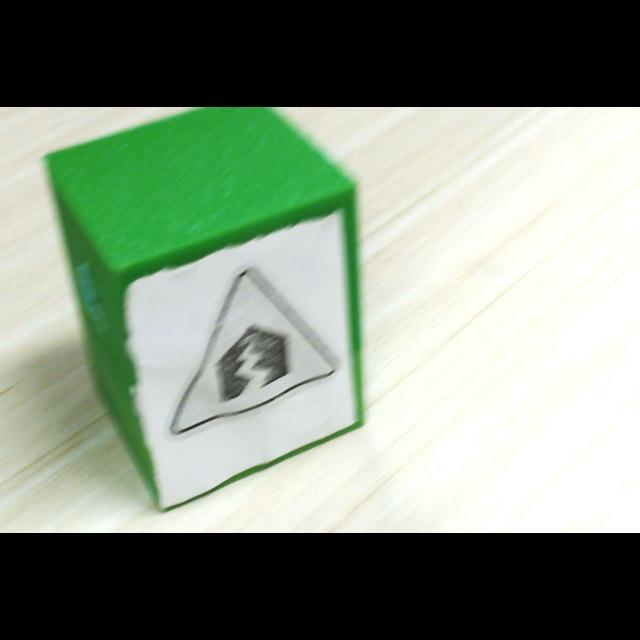Earthquake: (169, 268, 341, 440), (169, 268, 339, 436)
